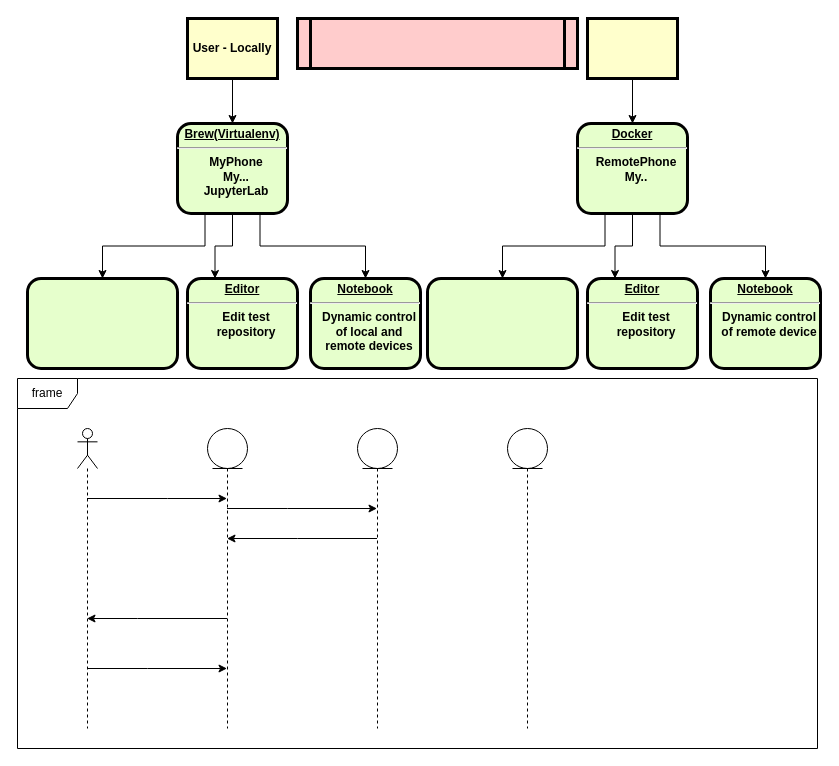
The diagram is 839 pixels wide and 766 high, and some of its shapes have lost their labels. The centre of each missing label's shape, as x and y in pixels:
"Jupyter workflow" goes at [437,43].
"Test script Run locally. Device discovery includes local devices" goes at [102,323].
"Test script Triggered onto CI, Device discovery only includes remote devices" goes at [502,323].
"User - With Binder" goes at [632,48].
